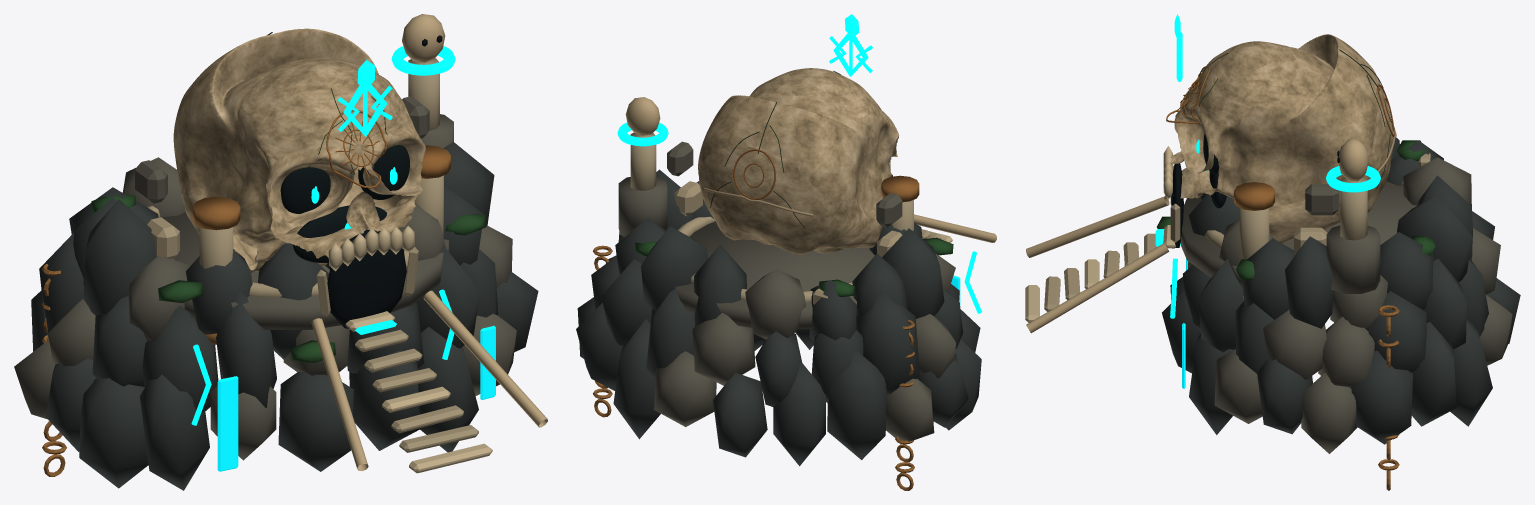
The model's file is oracles-cranium-v005.glb.
3 views of the same model, side by side, from view 1: azimuth 30°, elevation 25°; view 2: azimuth 150°, elevation 25°; view 3: azimuth 270°, elevation 25° (orthographic). The views are drawn at different scales.
Parts seen in each view (by area): view 1: TitanSkull_AnatomyShell_02, TitanSkull_AnatomyShell_06, TitanSkull_AnatomyShell_03, Oracle cliff layer 1 rock 11, Oracle cliff layer 1 rock 12, Oracle cliff layer 3 rock 8, Oracle cliff layer 1 rock 14, Oracle broken upper court, Oracle deep archive mouth, Oracle cliff layer 2 rock 11, Oracle cliff layer 2 rock 12, Oracle cliff layer 1 rock 16 (+57 smaller); view 2: TitanSkull_AnatomyShell_02, TitanSkull_AnatomyShell_04, Oracle broken upper court, Oracle cliff layer 1 rock 8, Oracle cliff layer 2 rock 8, Oracle cliff layer 1 rock 7, Oracle cliff layer 1 rock 6, Oracle cliff layer 2 rock 5, Oracle cliff layer 1 rock 4, TitanSkull_AnatomyShell_06, Oracle cliff layer 3 rock 3, Oracle cliff layer 3 rock 8 (+32 smaller); view 3: TitanSkull_AnatomyShell_02, TitanSkull_AnatomyShell_06, TitanSkull_AnatomyShell_03, Oracle cliff layer 1 rock 2, Oracle broken upper court, Oracle cliff layer 3 rock 15, Oracle cliff layer 1 rock 3, Oracle cliff layer 3 rock 3, Oracle cliff layer 1 rock 1, Oracle witness tower base, Oracle cliff layer 2 rock 2, Oracle cliff layer 3 rock 2 (+33 smaller).
Boxes of the visible parts, x1,y1,x2,y2 form: TitanSkull_AnatomyShell_02: (173,28,405,242); TitanSkull_AnatomyShell_06: (241,58,412,159); TitanSkull_AnatomyShell_03: (258,122,425,258); Oracle cliff layer 1 rock 11: (79,378,148,488); Oracle cliff layer 1 rock 12: (139,374,209,490); Oracle cliff layer 3 rock 8: (83,199,156,315); Oracle cliff layer 1 rock 14: (278,372,353,471); Oracle broken upper court: (162,212,449,329); Oracle deep archive mouth: (327,229,406,328); Oracle cliff layer 2 rock 11: (142,305,218,411); Oracle cliff layer 2 rock 12: (216,290,276,407); Oracle cliff layer 1 rock 16: (418,327,478,452); TitanSkull_AnatomyShell_02: (698,89,882,212); TitanSkull_AnatomyShell_04: (698,144,869,250); Oracle broken upper court: (675,222,874,329); Oracle cliff layer 1 rock 8: (827,350,886,459); Oracle cliff layer 2 rock 8: (856,291,919,394); Oracle cliff layer 1 rock 7: (773,361,825,466); Oracle cliff layer 1 rock 6: (713,373,767,457); Oracle cliff layer 2 rock 5: (692,313,755,385); Oracle cliff layer 1 rock 4: (613,318,660,439); TitanSkull_AnatomyShell_06: (752,68,888,127); Oracle cliff layer 3 rock 3: (641,226,707,309); Oracle cliff layer 3 rock 8: (882,228,944,318); TitanSkull_AnatomyShell_02: (1227,34,1376,205); TitanSkull_AnatomyShell_06: (1195,41,1295,131); TitanSkull_AnatomyShell_03: (1173,87,1234,198); Oracle cliff layer 1 rock 2: (1351,350,1412,444); Oracle broken upper court: (1180,181,1416,289); Oracle cliff layer 3 rock 15: (1285,236,1333,328); Oracle cliff layer 1 rock 3: (1411,322,1456,426); Oracle cliff layer 3 rock 3: (1397,195,1471,282); Oracle cliff layer 1 rock 1: (1301,372,1357,453); Oracle witness tower base: (1326,225,1380,293); Oracle cliff layer 2 rock 2: (1367,291,1426,372); Oracle cliff layer 3 rock 2: (1380,232,1433,309).
Bounding box in the file's own units: 3.17 × 3.1 × 3.51.
18 materials, 1 textured.
